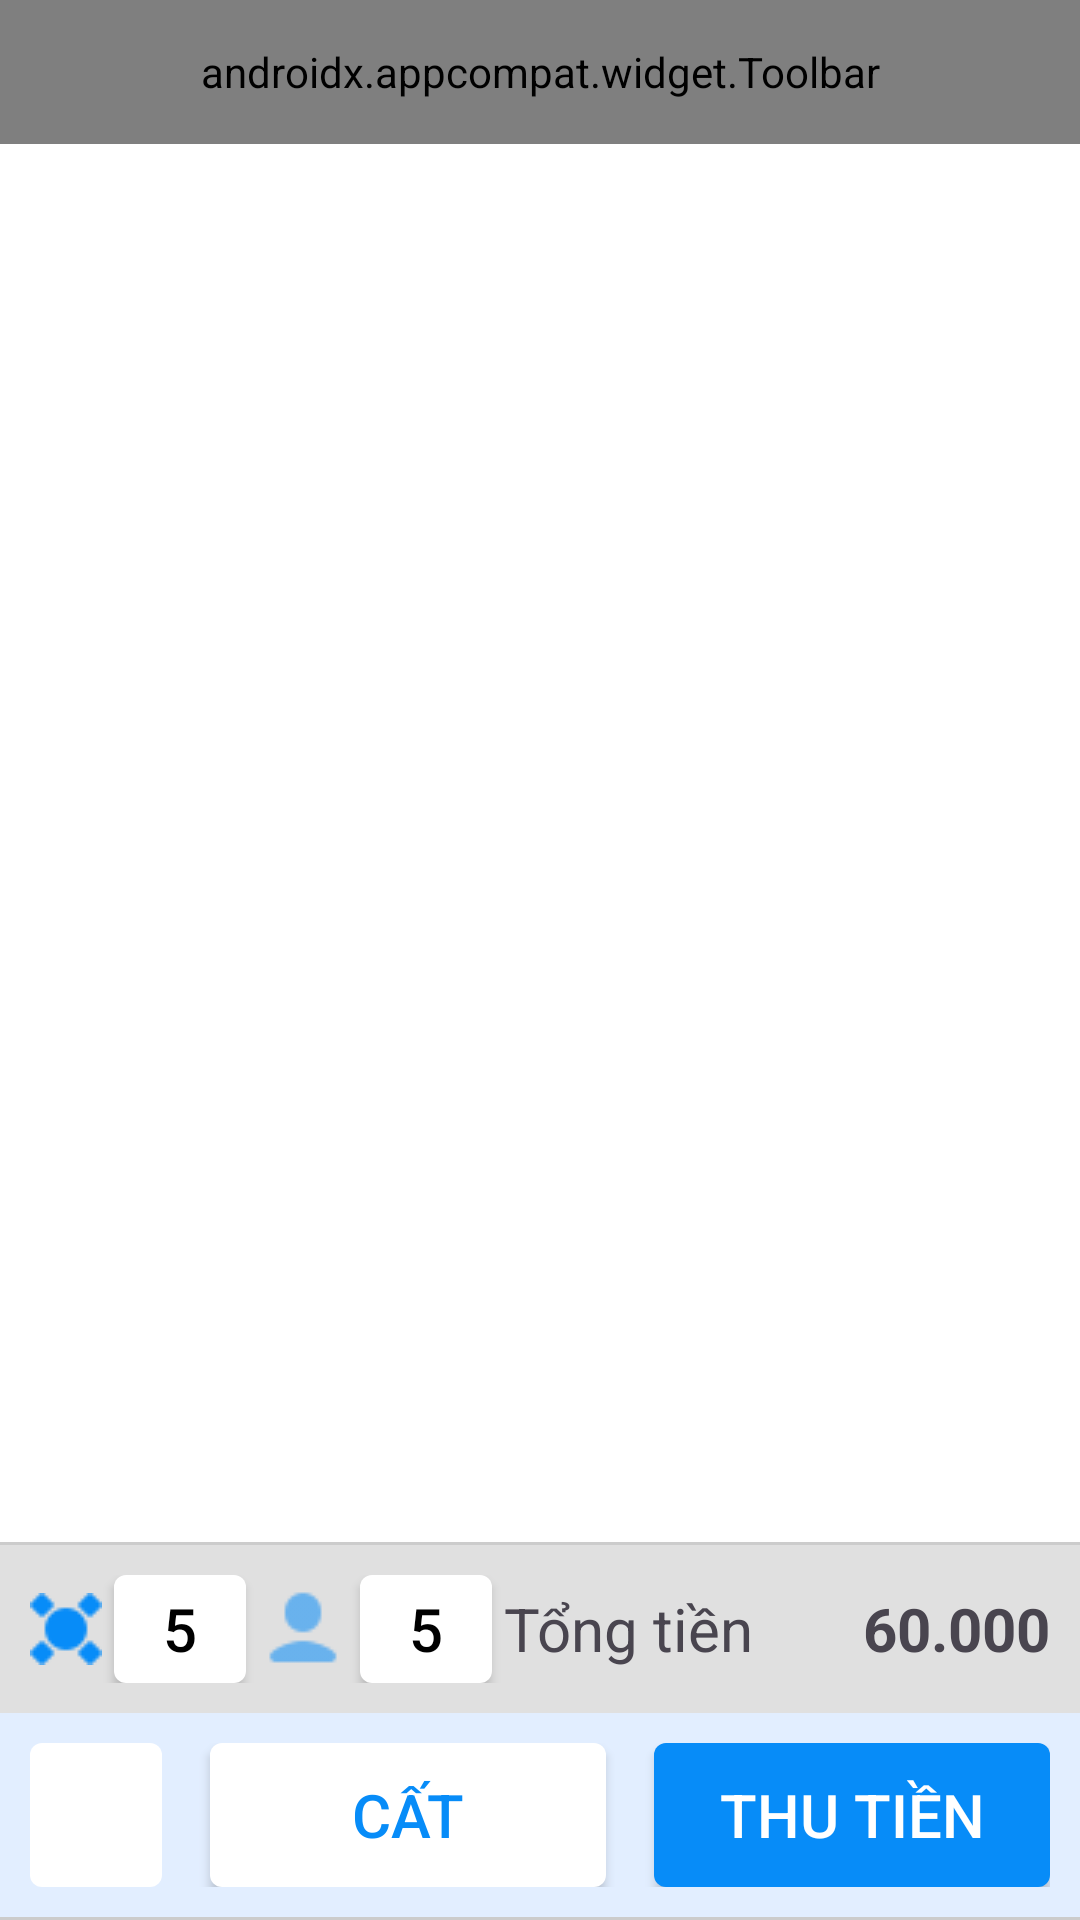

Icons on this 1080x1920 Android screen, each with the point to tap as [x,y]:
table: [66,1629]
user: [303,1627]
